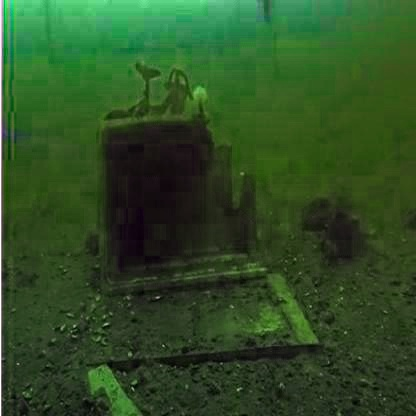misc: (89, 57, 246, 296)
